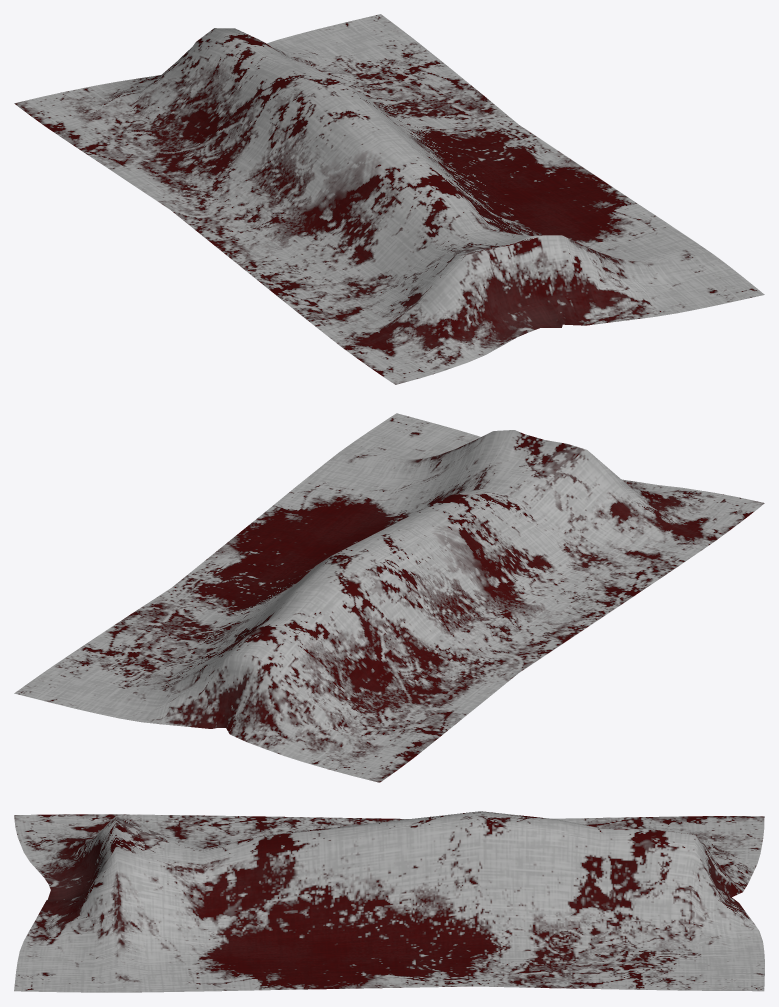
The model's file is body.obj.
3 views of the same model, one above another, from view 1: azimuth 30°, elevation 25°; view 2: azimuth 150°, elevation 25°; view 3: azimuth 270°, elevation 25° (orthographic). The views are drawn at different scales.
Parts seen in each view (by area): view 1: low_Material_#57_0; view 2: low_Material_#57_0; view 3: low_Material_#57_0.
Boxes of the visible parts, x1,y1,x2,y2 form: low_Material_#57_0: (14,14,764,384); low_Material_#57_0: (14,413,764,782); low_Material_#57_0: (14,811,764,992).
Size of the model in its own units: 6.32 by 1.32 by 11.24.
Materials: 1 (1 with a texture image).
